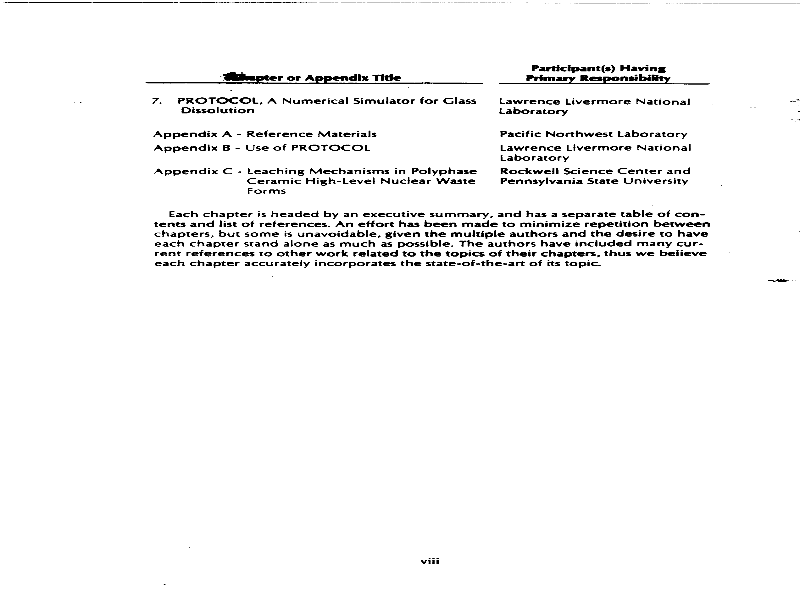table: (138, 58, 722, 201)
